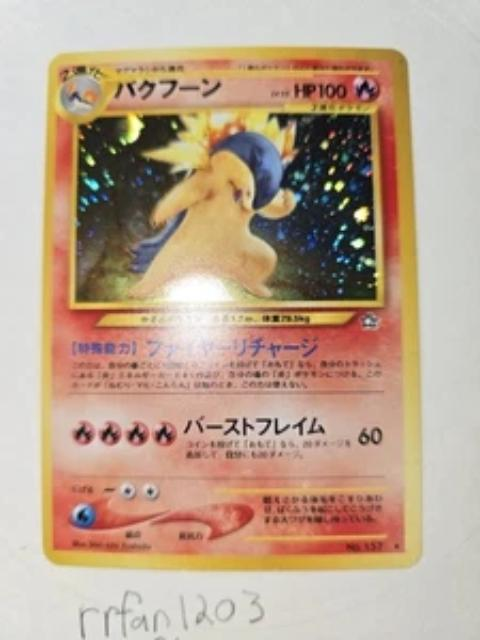Card: (38, 43, 430, 577)
Name: (109, 77, 227, 103)
